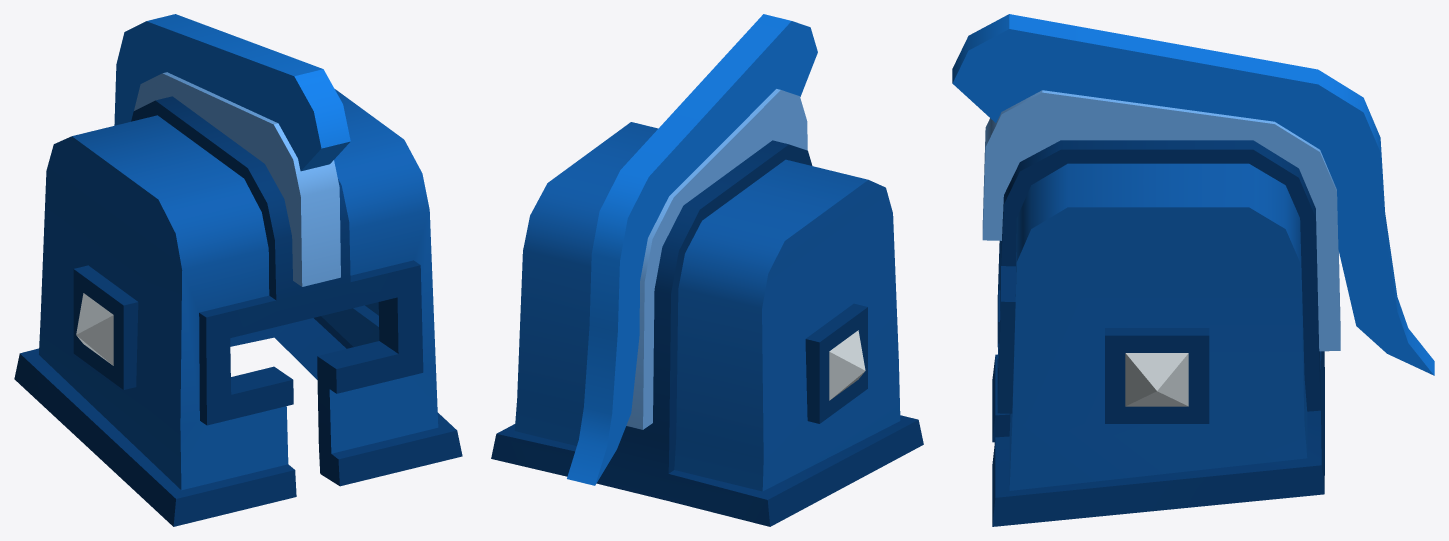
Rendered from Helmet 07.FBX.
3 renders of one model, left to right at view 1: azimuth 30°, elevation 25°; view 2: azimuth 150°, elevation 25°; view 3: azimuth 270°, elevation 25°, orthographic. The views are drawn at different scales.
Parts seen in each view (by area): view 1: Helmet 07; view 2: Helmet 07; view 3: Helmet 07.
Boxes of the visible parts, x1,y1,x2,y2 form: Helmet 07: (14, 14, 462, 526); Helmet 07: (491, 14, 923, 526); Helmet 07: (952, 14, 1434, 526).
Bounding box in the file's own units: 80.14 × 98.01 × 98.57.
Materials: 1 (1 with a texture image).
